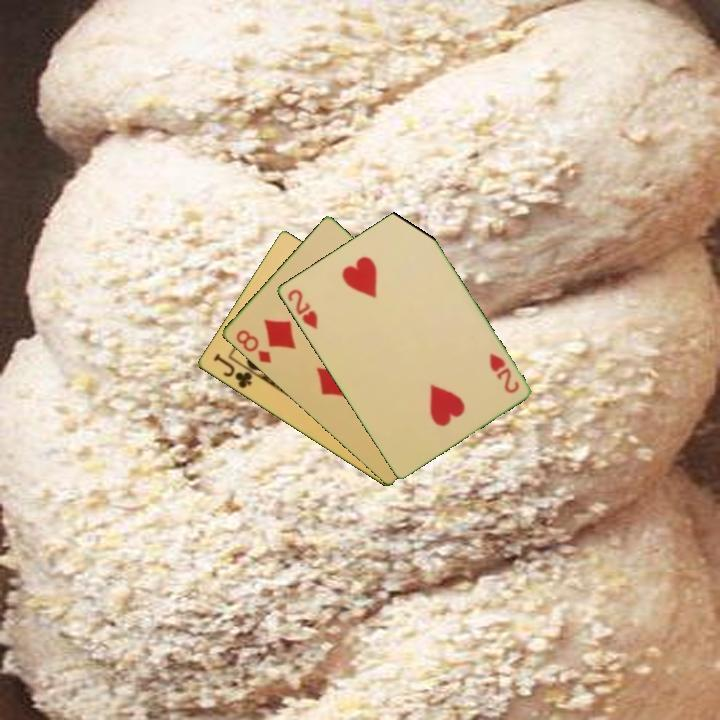2h: (283, 285, 320, 332), (485, 349, 522, 396)
8d: (232, 326, 274, 366)
Jc: (209, 350, 255, 392)
